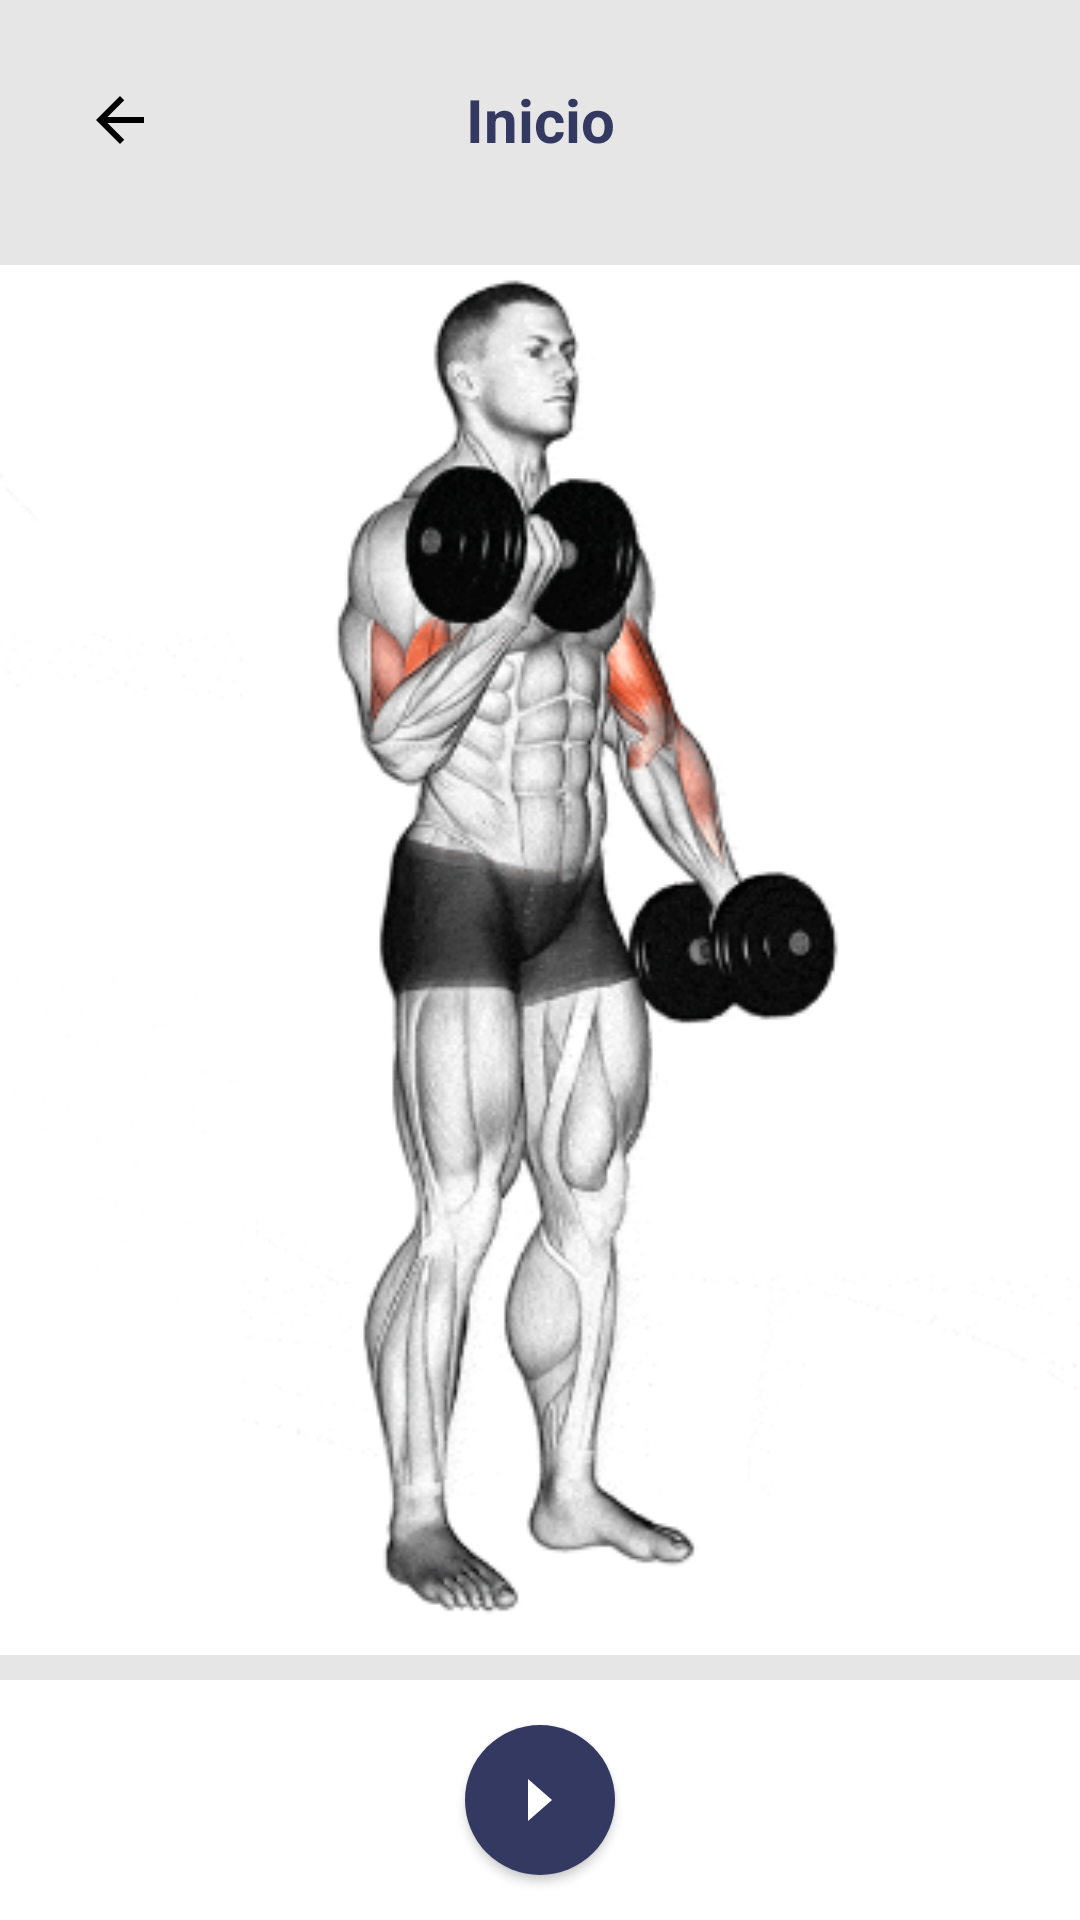

Named icons in this screenshot (1080×1920) and their centers, (x=x, y=y):
arrow back: (x=120, y=120)
